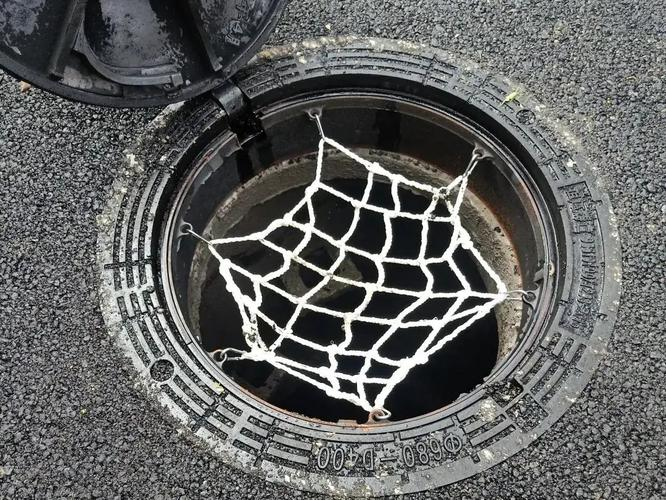lose: (96, 39, 622, 487)
